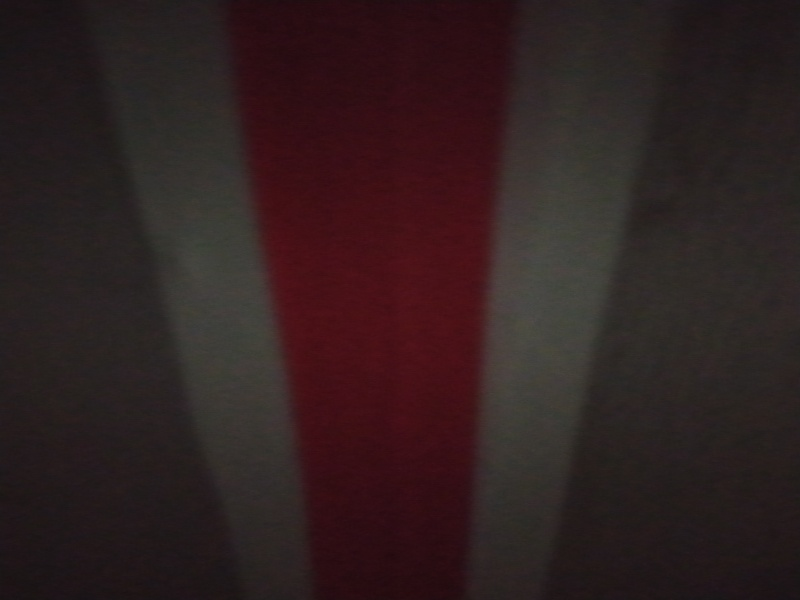reta: (68, 15, 628, 600)
